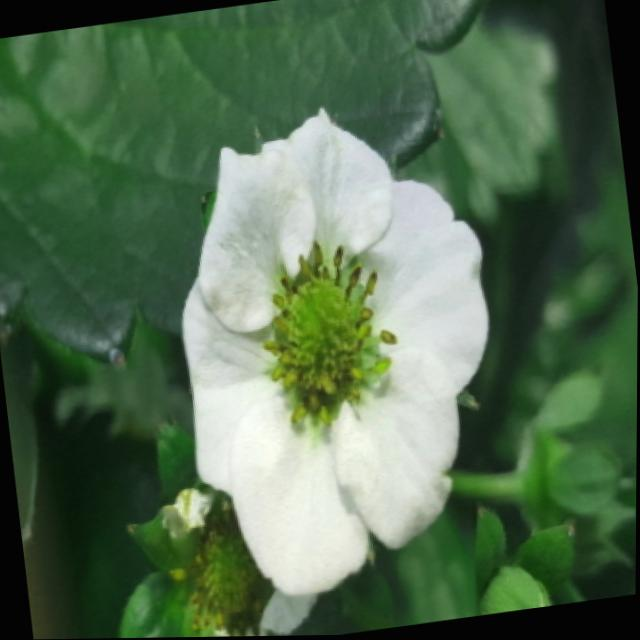Blossom Blight: (258, 232, 400, 438)
